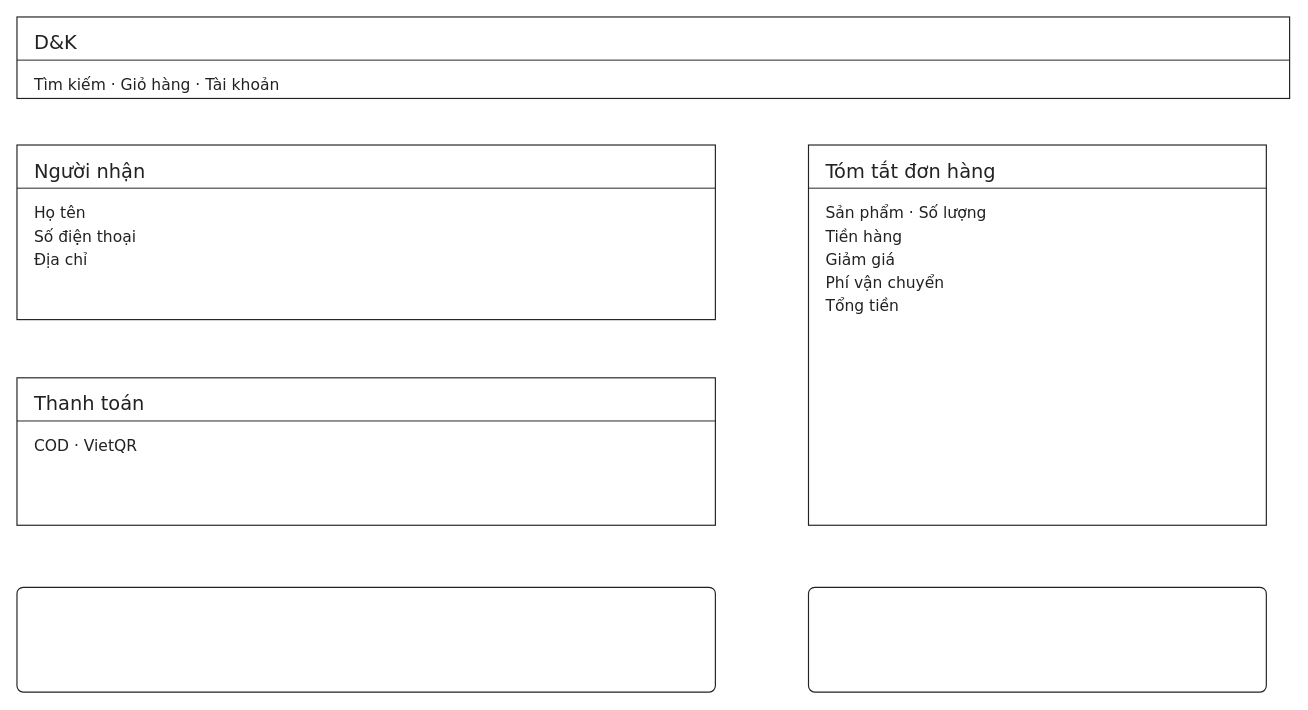
Some shapes in this 1308 by 710 pixel diagram are drawn without their labels. Each missing label, with the centre of its shape:
Mã giảm giá: the point at 365,639
Đặt hàng: the point at 1036,639
